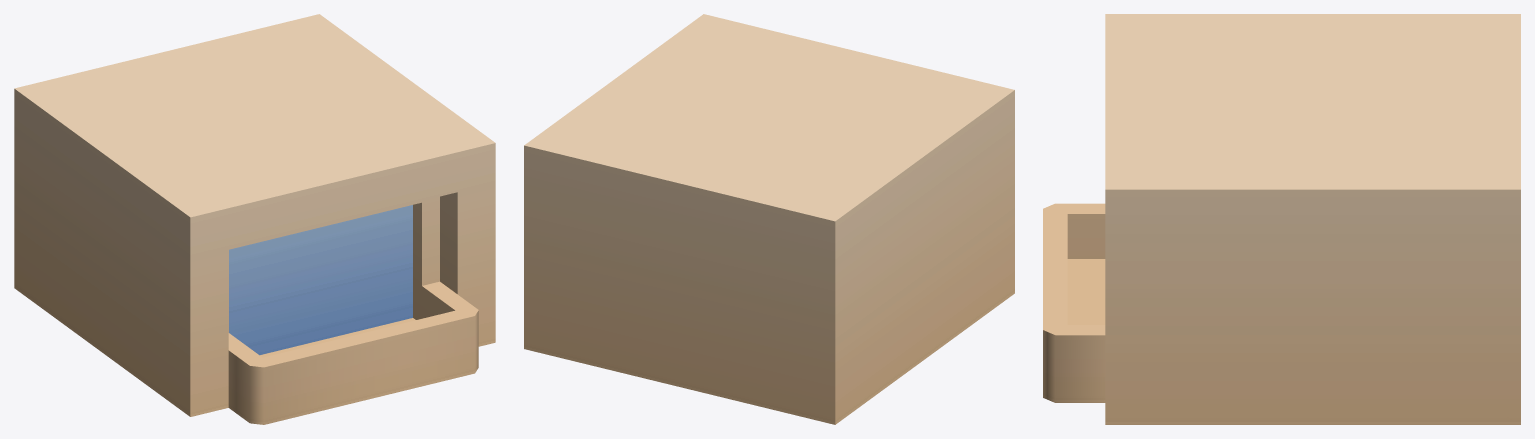
Rendered from building-window-balcony.glb.
The picture shows the model from 3 angles, left to right: view 1: azimuth 30°, elevation 25°; view 2: azimuth 150°, elevation 25°; view 3: azimuth 270°, elevation 25°; orthographic projection. The views are drawn at different scales.
Visible parts, largest first — view 1: building-window-balcony; view 2: building-window-balcony; view 3: building-window-balcony.
Boxes of the visible parts, left/top/right/bottom form: building-window-balcony: left=14, top=14, right=495, bottom=424; building-window-balcony: left=524, top=14, right=1014, bottom=424; building-window-balcony: left=1043, top=14, right=1520, bottom=424.
Bounding box in the file's own units: 1 × 0.6251 × 1.15.
1 material, 1 textured.
